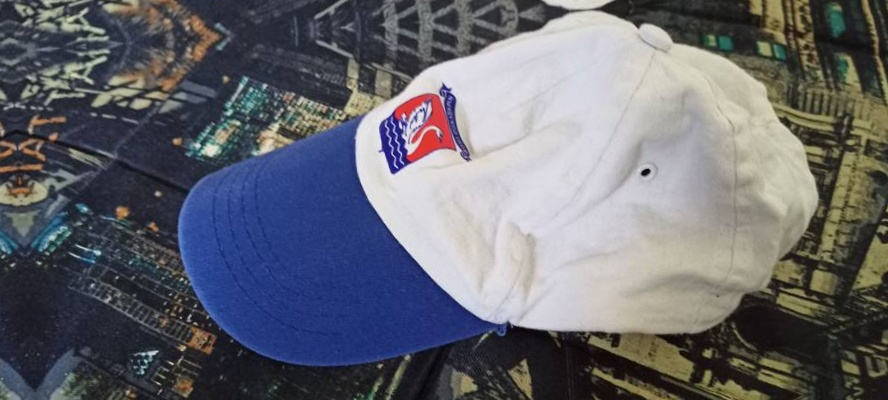Hat: (132, 0, 820, 400), (106, 0, 794, 42)
